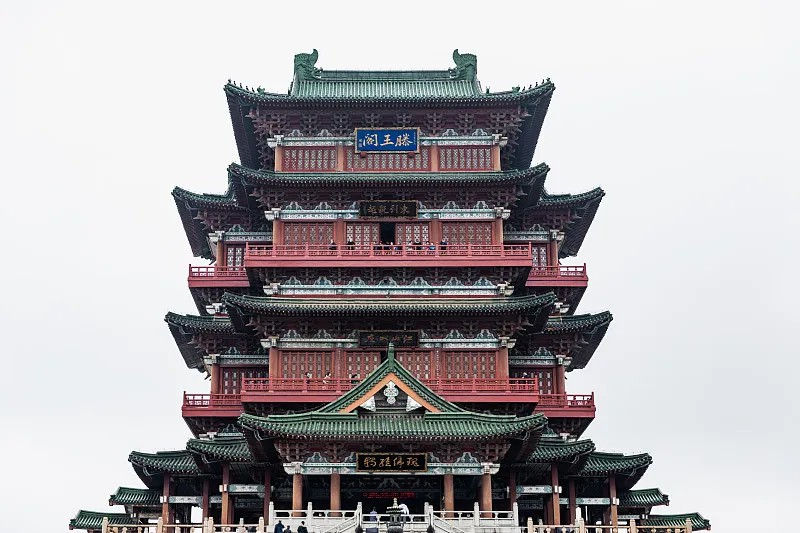Teng: (70, 49, 711, 533)
